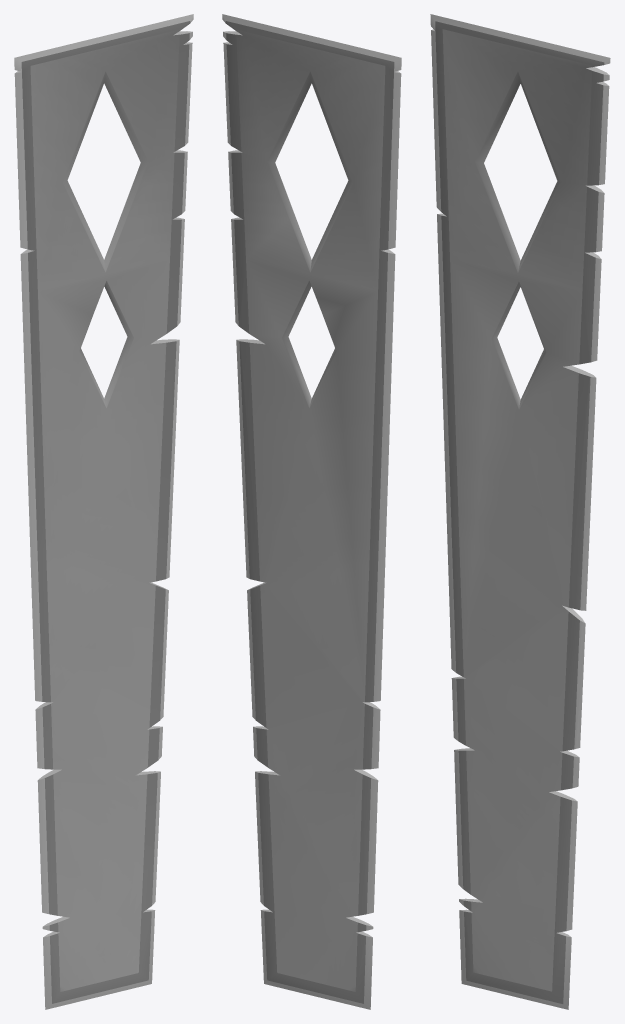
Rendered from stone_blade_scratched_060.glb.
3 renders of one model, left to right at view 1: azimuth 30°, elevation 25°; view 2: azimuth 150°, elevation 25°; view 3: azimuth 330°, elevation 25°, orthographic.
Parts seen in each view (by area): view 1: stone_blade_scratched.060; view 2: stone_blade_scratched.060; view 3: stone_blade_scratched.060.
Part boxes in pixels (x1,y1,x2,y2): stone_blade_scratched.060: (14,14,193,1009); stone_blade_scratched.060: (222,14,401,1009); stone_blade_scratched.060: (430,14,610,1009).
Size of the model in its own units: 2.19 by 11.21 by 0.0882.
Materials: 1 (1 with a texture image).
